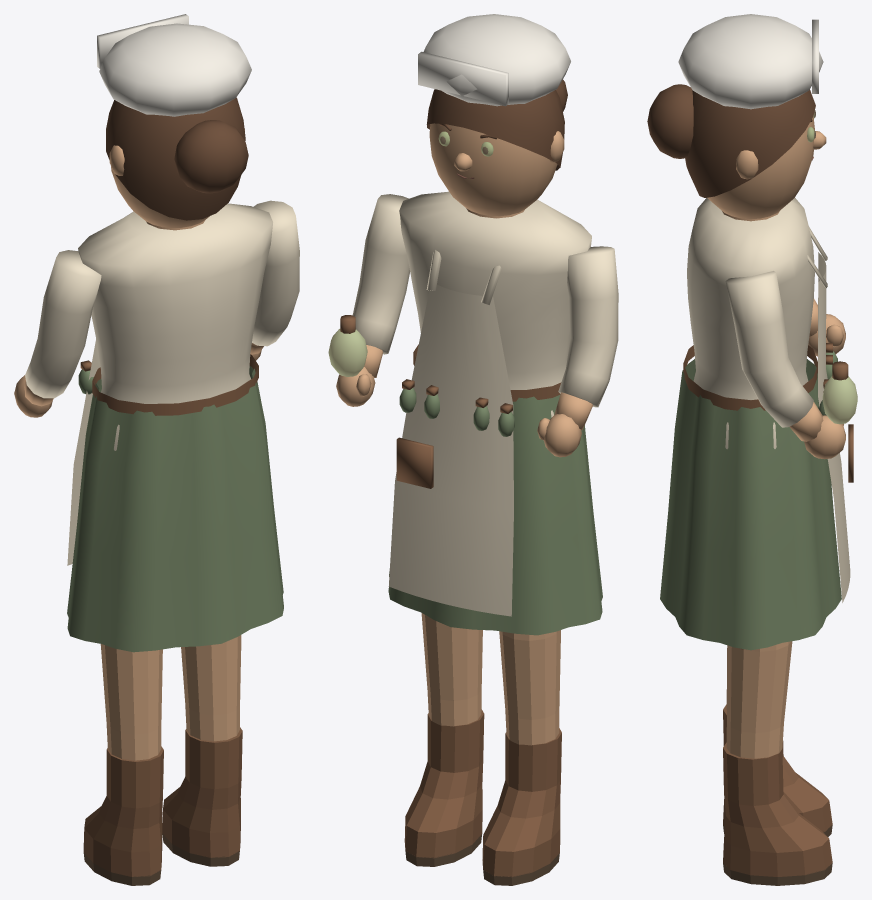
The model's file is SM_NPC_TUFA.glb.
3 views of the same model, side by side, from view 1: azimuth 30°, elevation 25°; view 2: azimuth 150°, elevation 25°; view 3: azimuth 270°, elevation 25° (orthographic).
Visible parts, largest first — view 1: SM_NPC_TUFA_BODY, SM_NPC_TUFA_HAIR, SM_NPC_TUFA_LEG_L, SM_NPC_TUFA_LEG_R, SM_NPC_TUFA_ARM_L, SM_NPC_TUFA_ARM_R, SM_NPC_TUFA_HEAD; view 2: SM_NPC_TUFA_BODY, SM_NPC_TUFA_HAIR, SM_NPC_TUFA_LEG_L, SM_NPC_TUFA_LEG_R, SM_NPC_TUFA_ARM_L, SM_NPC_TUFA_ARM_R, SM_NPC_TUFA_HEAD; view 3: SM_NPC_TUFA_BODY, SM_NPC_TUFA_HAIR, SM_NPC_TUFA_LEG_R, SM_NPC_TUFA_ARM_R, SM_NPC_TUFA_HEAD, SM_NPC_TUFA_LEG_L, SM_NPC_TUFA_ARM_L.
Boxes of the visible parts, box(x1,y1,x2,y2) form: SM_NPC_TUFA_BODY: box(67, 203, 283, 652); SM_NPC_TUFA_HAIR: box(97, 14, 251, 220); SM_NPC_TUFA_LEG_L: box(83, 644, 163, 885); SM_NPC_TUFA_LEG_R: box(162, 635, 242, 866); SM_NPC_TUFA_ARM_L: box(14, 250, 101, 417); SM_NPC_TUFA_ARM_R: box(250, 200, 299, 360); SM_NPC_TUFA_HEAD: box(109, 129, 244, 227); SM_NPC_TUFA_BODY: box(388, 191, 602, 635); SM_NPC_TUFA_HAIR: box(418, 14, 570, 170); SM_NPC_TUFA_LEG_L: box(482, 630, 561, 885); SM_NPC_TUFA_LEG_R: box(404, 613, 484, 866); SM_NPC_TUFA_ARM_L: box(537, 246, 618, 457); SM_NPC_TUFA_ARM_R: box(328, 194, 409, 406); SM_NPC_TUFA_HEAD: box(429, 123, 564, 216); SM_NPC_TUFA_BODY: box(660, 198, 853, 650); SM_NPC_TUFA_HAIR: box(647, 14, 823, 197); SM_NPC_TUFA_LEG_R: box(723, 641, 832, 885); SM_NPC_TUFA_ARM_R: box(725, 271, 857, 459); SM_NPC_TUFA_HEAD: box(707, 116, 826, 219); SM_NPC_TUFA_LEG_L: box(723, 648, 832, 836); SM_NPC_TUFA_ARM_L: box(808, 299, 845, 356).
Size of the model in its own units: 0.6008 by 1.86 by 0.4295.
